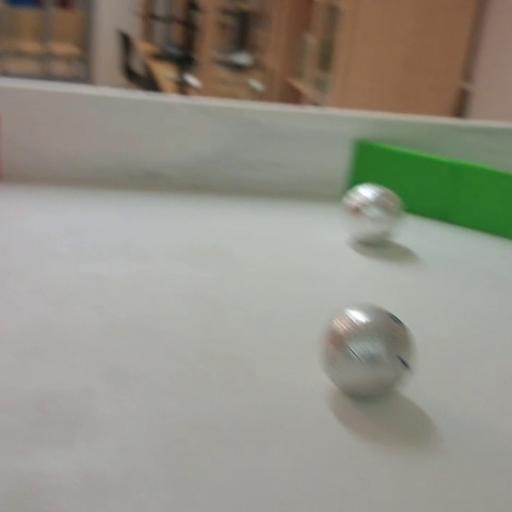alive: (320, 304, 414, 398), (342, 183, 402, 244)
